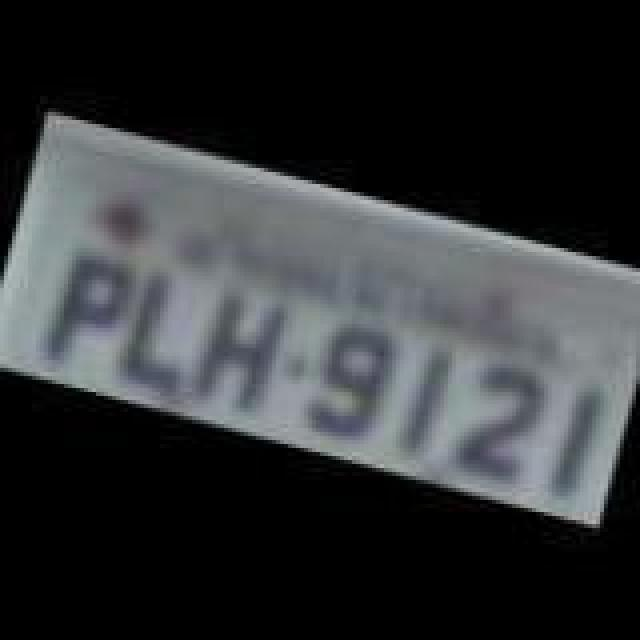1: (534, 372, 614, 500), (386, 338, 458, 458)
2: (446, 352, 558, 488)
9: (302, 312, 402, 440)
H: (184, 280, 296, 420)
L: (110, 262, 210, 398)
P: (32, 242, 136, 374)
